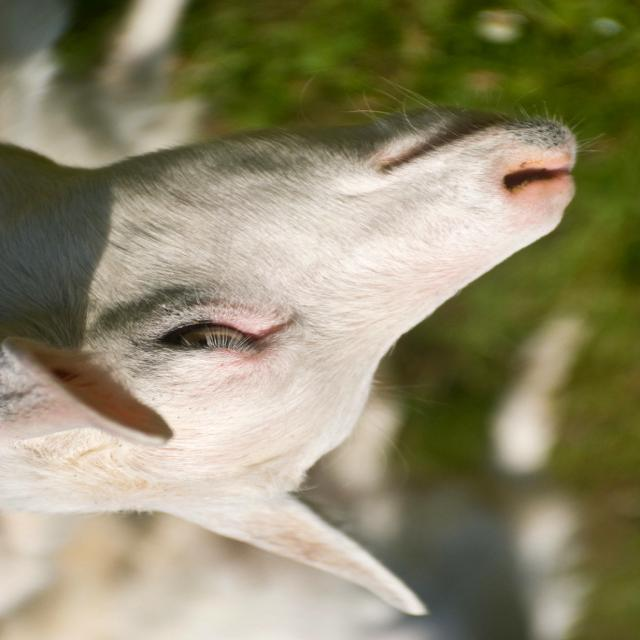Goat: (2, 4, 604, 619)
